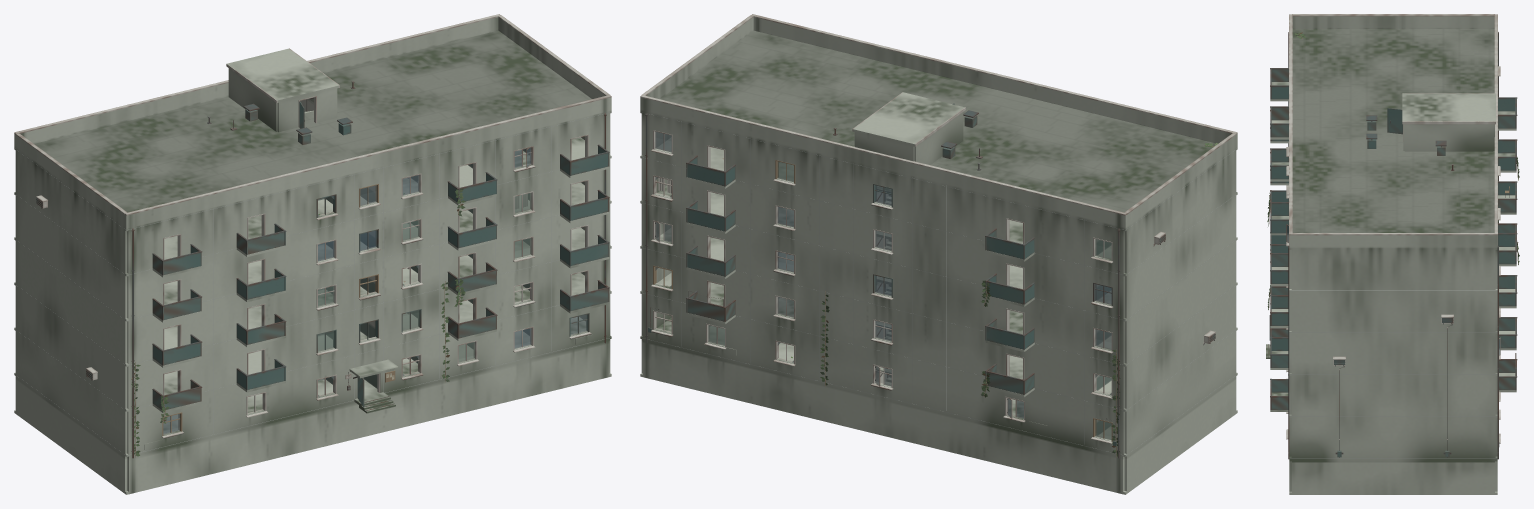
The model's file is soviet_apartment_block_01_overgrown.glb.
3 renders of one model, left to right at view 1: azimuth 30°, elevation 25°; view 2: azimuth 150°, elevation 25°; view 3: azimuth 270°, elevation 25°, orthographic. The views are drawn at different scales.
Visible parts, largest first — view 1: Masonry, Details, Glazing, Interior, Vegetation; view 2: Masonry, Details, Glazing, Interior, Vegetation; view 3: Masonry, Details.
Boxes of the visible parts, x1,y1,x2,y2 form: Masonry: (14,17,611,494); Details: (14,14,611,458); Glazing: (163,147,587,434); Interior: (300,99,529,388); Vegetation: (131,188,465,457); Masonry: (640,17,1237,494); Details: (640,14,1237,458); Glazing: (655,132,1111,439); Interior: (658,162,1111,435); Vegetation: (722,143,1218,457); Masonry: (1266,16,1516,494); Details: (1268,14,1517,459).
Size of what is drawn, in the model's own units: 41.56 by 23.8 by 19.73.
5 materials, 5 textured.
